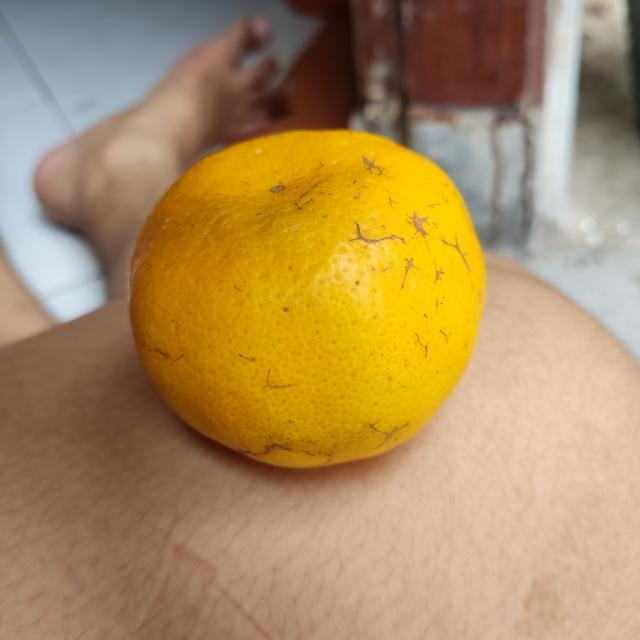agrume: (123, 125, 488, 473)
